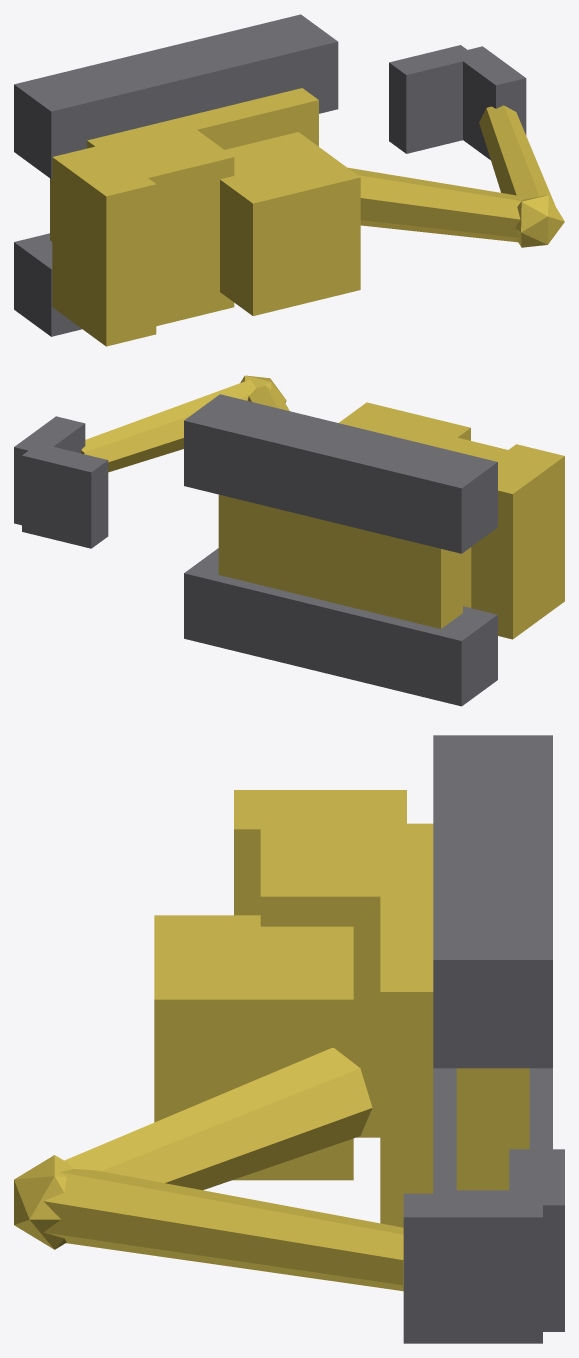
3 renders of one model, top to bottom at view 1: azimuth 30°, elevation 25°; view 2: azimuth 150°, elevation 25°; view 3: azimuth 270°, elevation 25°, orthographic. The views are drawn at different scales.
Visible parts, largest first — view 1: part0, part4, part6, part5, part7, part11, part3, part10, part9, part1, part8; view 2: part0, part1, part2, part6, part11, part9, part4, part5, part10, part7, part3; view 3: part0, part4, part9, part7, part10, part5, part3, part2, part6, part11, part1, part8.
Part boxes in pixels (<box>): part0: <box>14,14,338,179</box>; part4: <box>220,132,360,315</box>; part6: <box>52,146,156,346</box>; part5: <box>71,127,234,326</box>; part7: <box>348,167,524,242</box>; part11: <box>389,45,476,153</box>; part3: <box>87,88,318,151</box>; part10: <box>453,46,526,160</box>; part9: <box>479,105,555,205</box>; part1: <box>14,233,81,336</box>; part8: <box>515,195,564,247</box>; part0: <box>184,394,497,553</box>; part1: <box>184,548,497,706</box>; part2: <box>218,494,462,628</box>; part6: <box>471,444,564,639</box>; part11: <box>22,443,108,548</box>; part9: <box>81,379,255,472</box>; part4: <box>339,402,470,440</box>; part5: <box>410,429,542,487</box>; part10: <box>14,416,85,525</box>; part7: <box>247,385,289,411</box>; part3: <box>463,547,471,607</box>; part0: <box>433,735,552,1068</box>; part4: <box>154,915,353,1180</box>; part9: <box>43,1169,403,1291</box>; part7: <box>64,1048,372,1190</box>; part10: <box>403,1193,542,1343</box>; part5: <box>260,801,393,1137</box>; part3: <box>380,823,433,1227</box>; part2: <box>456,1068,529,1190</box>; part6: <box>234,790,406,915</box>; part11: <box>509,1149,564,1331</box>; part1: <box>433,1068,552,1193</box>; part8: <box>14,1155,73,1249</box>.
Size of the model in its own units: 6.59 by 3 by 4.15.
